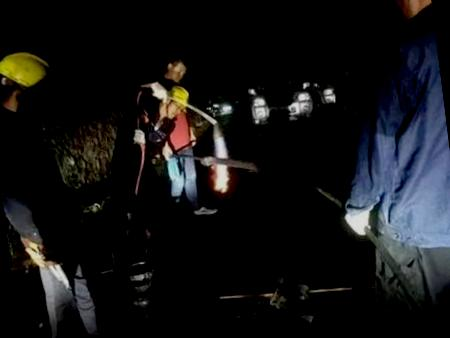no_helmet: (159, 51, 194, 85)
